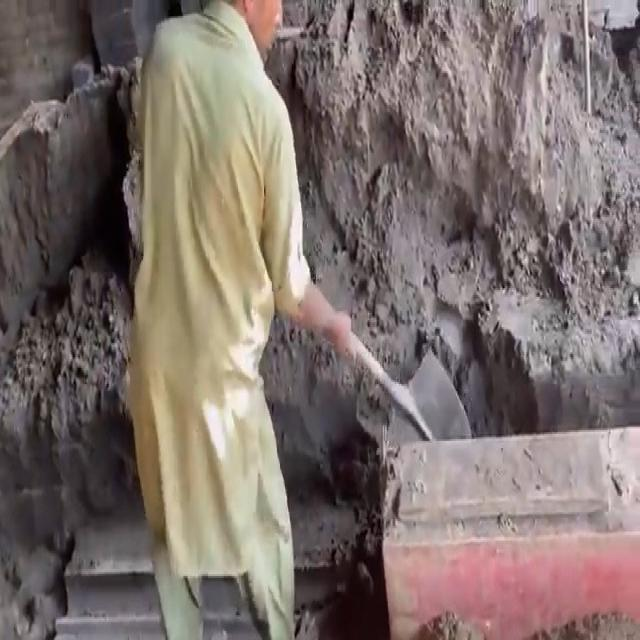dress: (129, 0, 313, 640)
